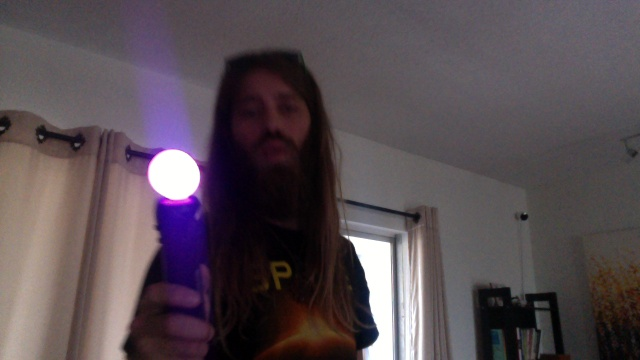wand: (148, 148, 201, 201)
